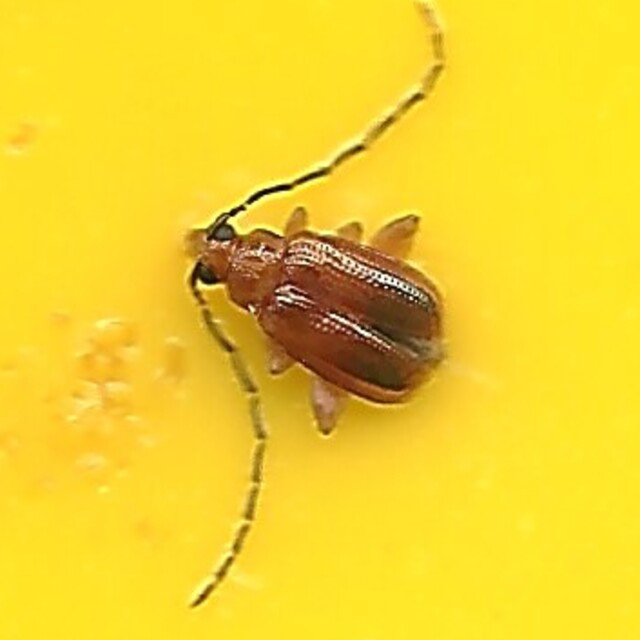Coleoptera: (181, 199, 459, 441)
